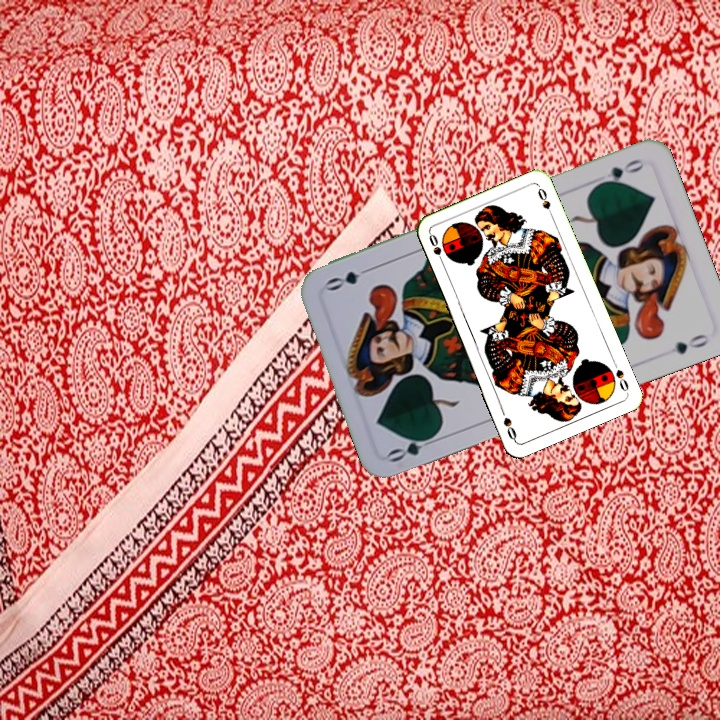GO: (384, 429, 442, 465), (593, 155, 648, 189)
SO: (425, 230, 447, 269), (609, 357, 631, 395)
